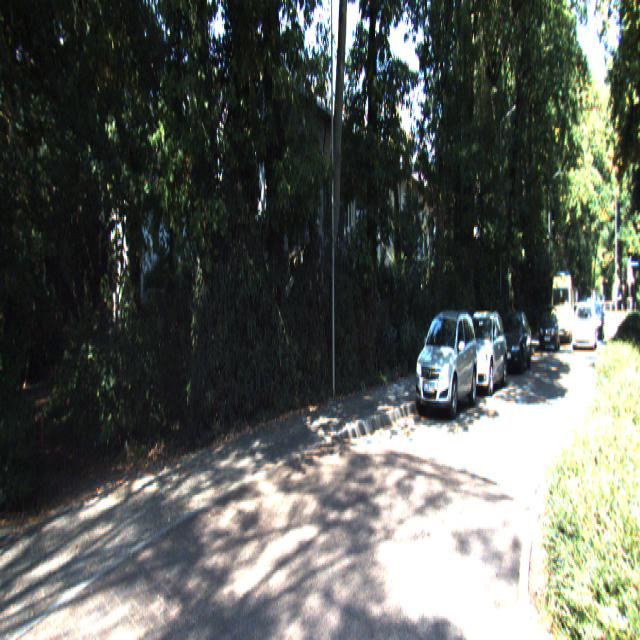Car: (414, 306, 478, 422), (456, 310, 508, 398), (499, 306, 532, 372), (550, 267, 574, 341), (572, 299, 596, 348), (538, 302, 560, 350)
